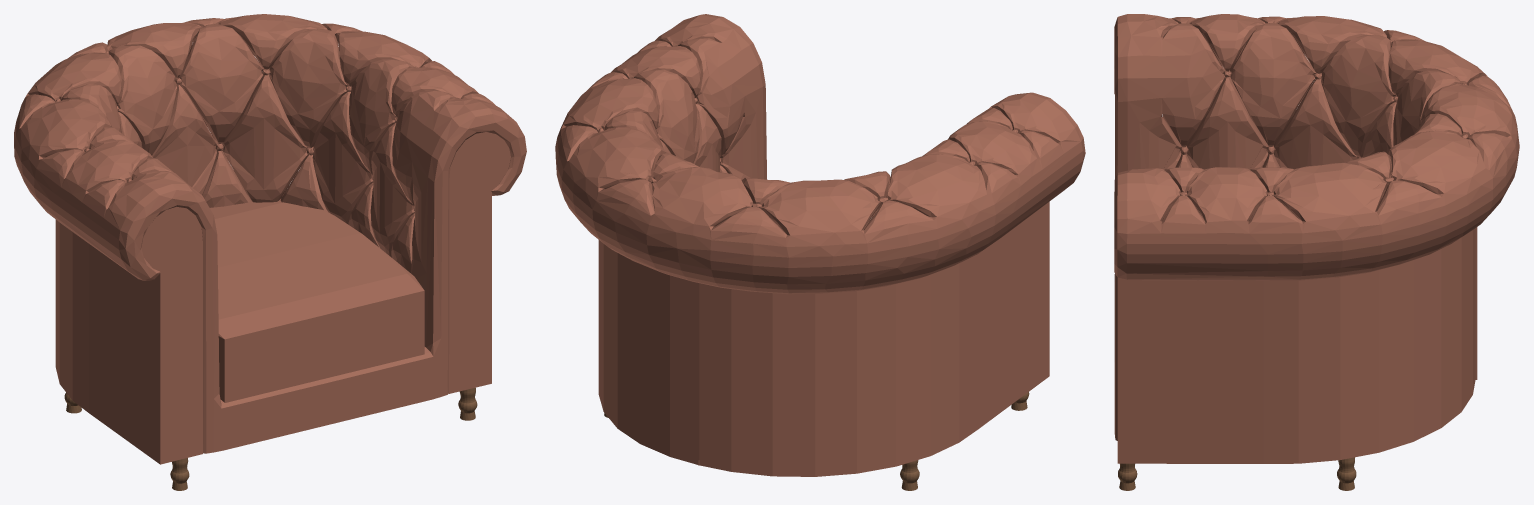
The model's file is sweethome3d-blendswap-cc-0-winchester-armchair.glb.
3 views of the same model, side by side, from view 1: azimuth 30°, elevation 25°; view 2: azimuth 150°, elevation 25°; view 3: azimuth 270°, elevation 25° (orthographic). The views are drawn at different scales.
Parts seen in each view (by area): view 1: Circle, Circle.002_Circle.003, Cube_Cube.001; view 2: Circle, Circle.002_Circle.003; view 3: Circle, Circle.002_Circle.003, Circle.004_Circle.005, Circle.003_Circle.004.
Part boxes in pixels (box(x1,y1,x2,y2)): Circle: box(14, 14, 526, 453); Circle.002_Circle.003: box(55, 132, 510, 464); Cube_Cube.001: box(144, 194, 424, 402); Circle: box(555, 14, 1085, 294); Circle.002_Circle.003: box(598, 201, 1049, 476); Circle: box(1114, 14, 1519, 440); Circle.002_Circle.003: box(1117, 227, 1477, 463); Circle.004_Circle.005: box(1337, 457, 1356, 490); Circle.003_Circle.004: box(1118, 463, 1137, 490).
Size of the model in its own units: 112 by 80.43 by 93.42.
